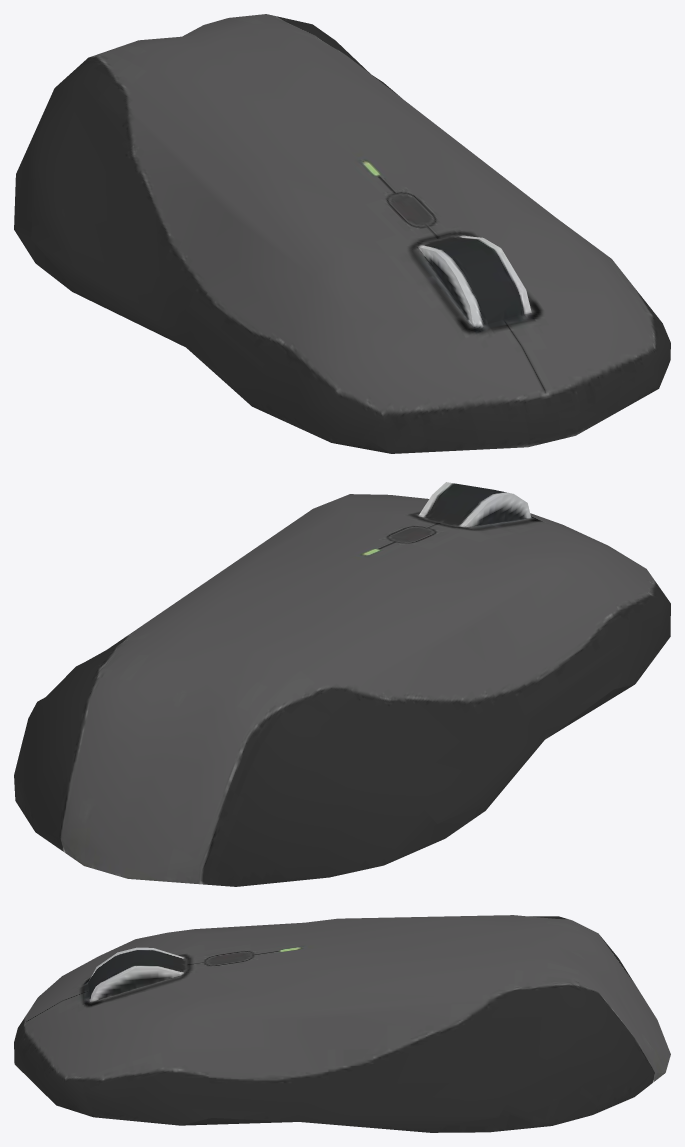
File: glide-drift-travel.glb
3 views of the same model, one above another, from view 1: azimuth 30°, elevation 25°; view 2: azimuth 150°, elevation 25°; view 3: azimuth 270°, elevation 25° (orthographic). The views are drawn at different scales.
Parts seen in each view (by area): view 1: Plane.004_mouse_0; view 2: Plane.004_mouse_0; view 3: Plane.004_mouse_0.
Boxes of the visible parts, bbox=[...] form: Plane.004_mouse_0: bbox=[14, 14, 670, 453]; Plane.004_mouse_0: bbox=[14, 482, 670, 886]; Plane.004_mouse_0: bbox=[14, 915, 670, 1132].
Size of the model in its own units: 0.9876 by 0.3608 by 1.78.
1 material, 1 textured.
